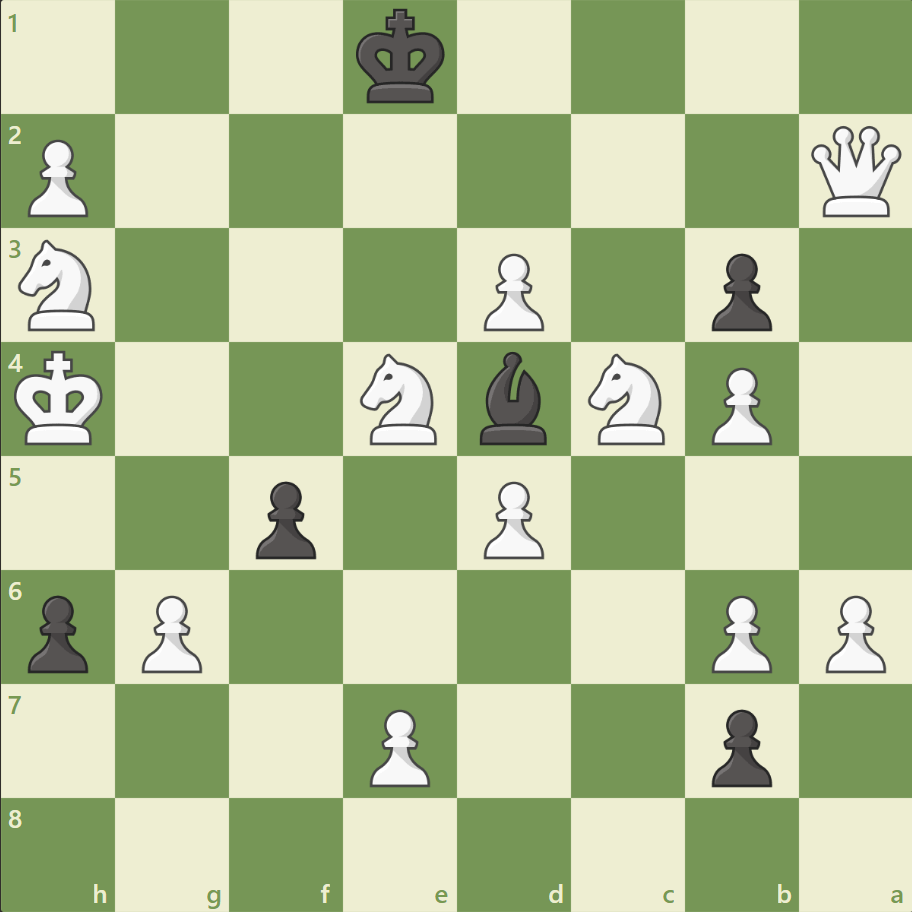K: (11, 344, 111, 452)
N: (351, 348, 449, 450), (11, 234, 108, 337), (579, 348, 676, 450)
P: (701, 586, 776, 677), (133, 586, 208, 677), (474, 473, 549, 564), (701, 359, 776, 450), (474, 246, 549, 337), (20, 132, 95, 223), (361, 700, 435, 791), (815, 586, 889, 677)
Q: (805, 122, 904, 222)
b: (471, 347, 555, 449)
k: (351, 4, 451, 112)
p: (701, 700, 776, 791), (20, 586, 95, 677), (247, 473, 322, 564), (701, 246, 776, 337)
